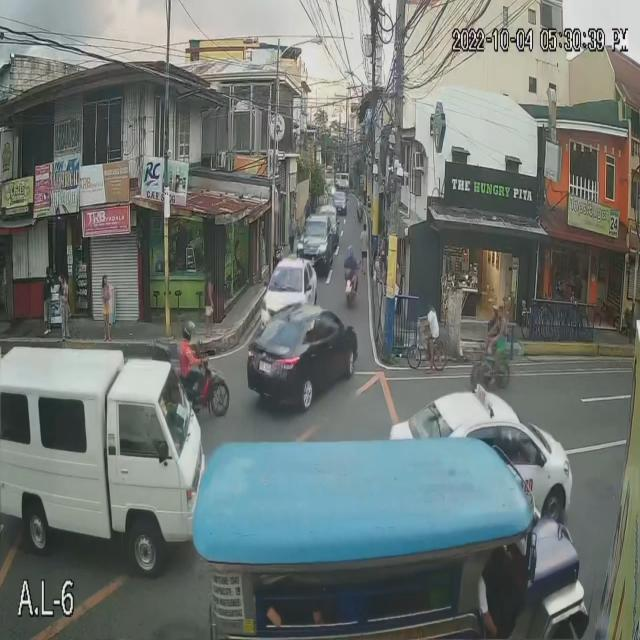full: (180, 316, 196, 342)
